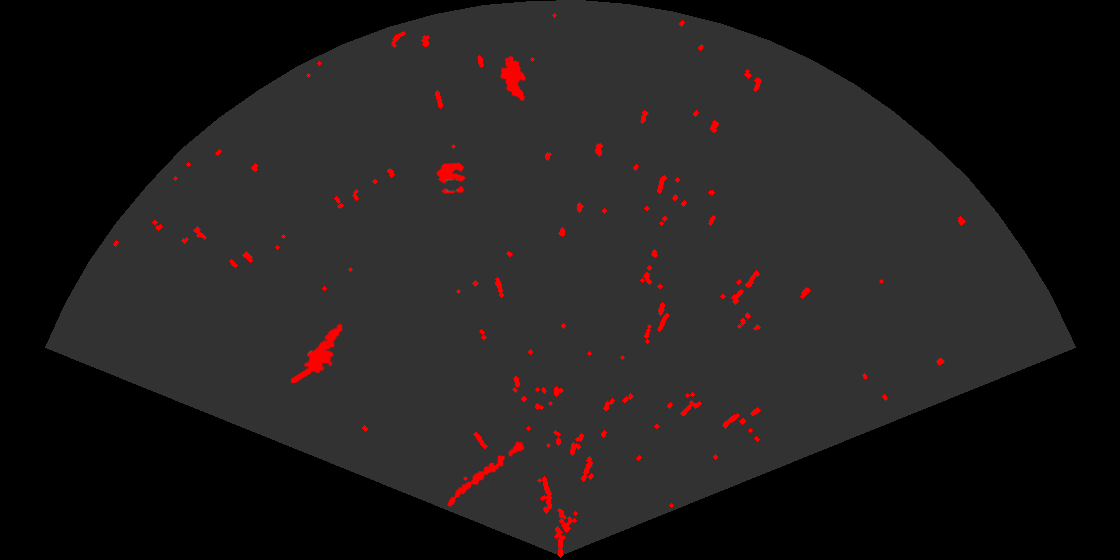AUV: (499, 54, 527, 102)
ball: (435, 161, 467, 195)
chain: (446, 440, 526, 508)
frogman: (291, 322, 345, 383)
